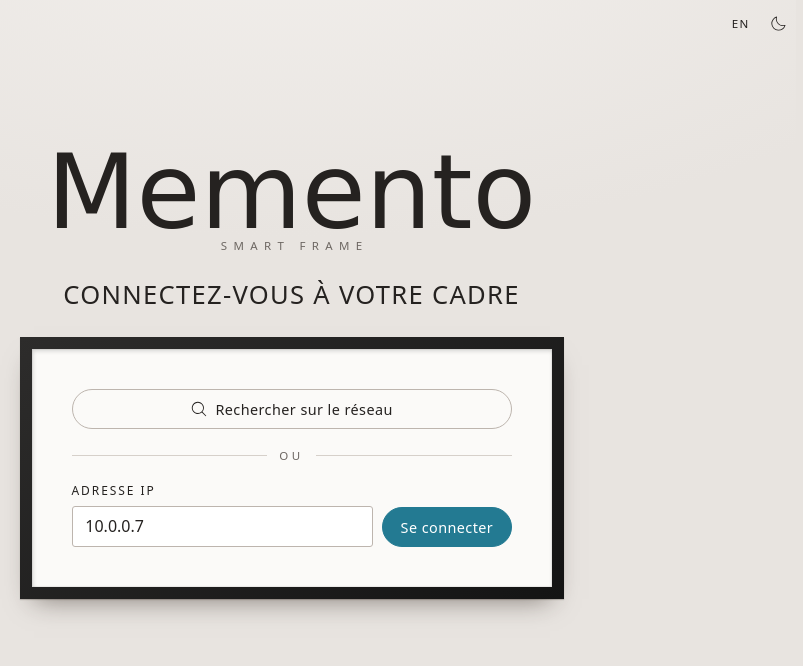
Test: Connect › prefills the remembered IP and shows connect errors without crashing
Expected: the field labelled "Adresse IP" holds "10.0.0.7", x1=72 y1=506 x2=373 y2=547
Step 1. Click the button "Se connecter" → click(447, 527), box x1=382 y1=507 x2=512 y2=547
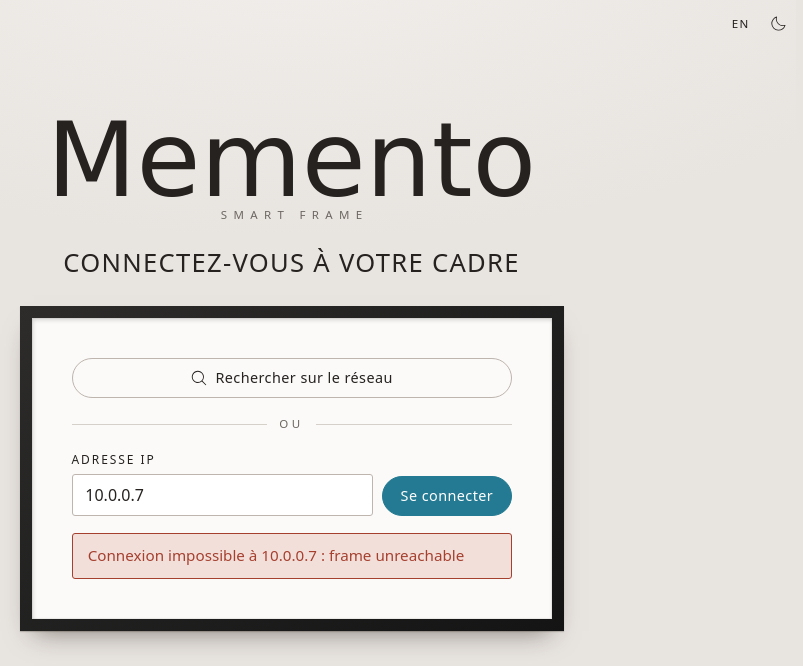
Expected: the field labelled "Adresse IP" is shown, x1=72 y1=474 x2=373 y2=516
Expected: the message shows "frame unreachable", x1=88 y1=545 x2=464 y2=565
